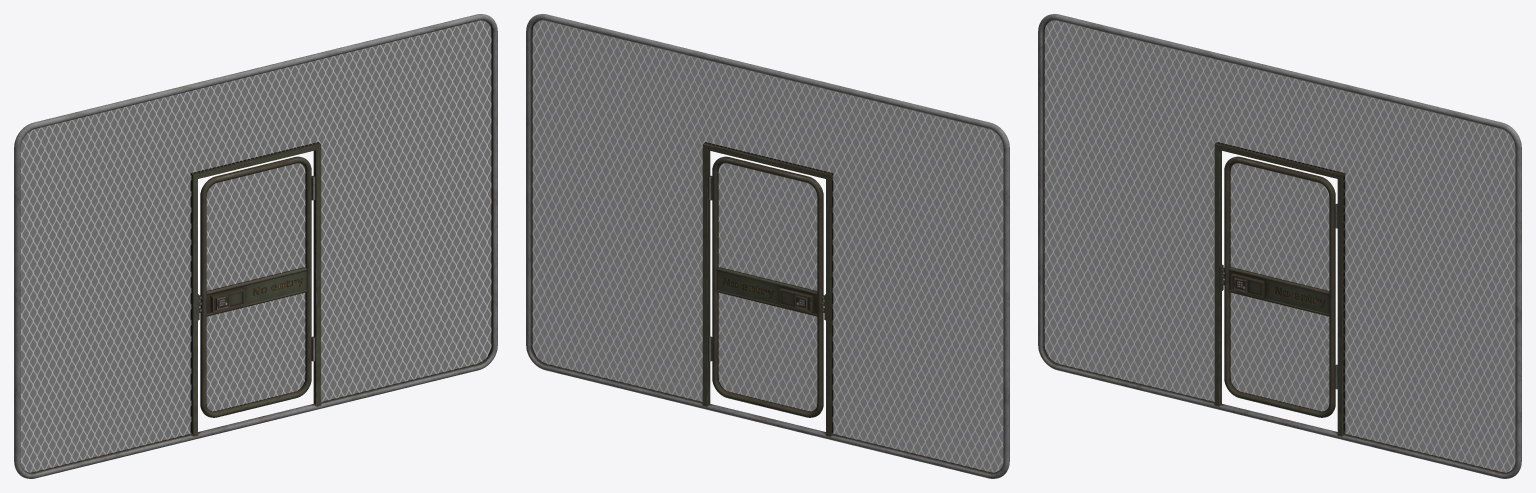
The model's file is cerca_a.glb.
3 views of the same model, side by side, from view 1: azimuth 30°, elevation 25°; view 2: azimuth 150°, elevation 25°; view 3: azimuth 330°, elevation 25° (orthographic).
Visible parts, largest first — view 1: tor, base; view 2: tor, base; view 3: tor, base.
Boxes of the visible parts, left/top/right/bottom form: tor: left=20, top=20, right=491, bottom=472; base: left=14, top=14, right=497, bottom=478; tor: left=532, top=20, right=1003, bottom=472; base: left=526, top=14, right=1009, bottom=478; tor: left=1044, top=20, right=1515, bottom=472; base: left=1038, top=14, right=1521, bottom=478.
Bounding box in the file's own units: 5.06 × 3.56 × 0.1262.
Materials: 2 (2 with a texture image).
